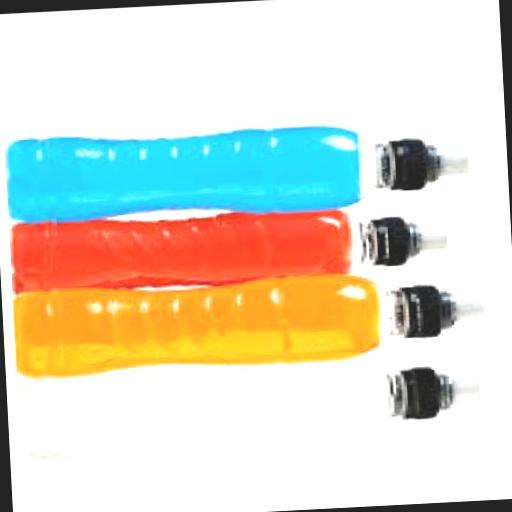plastic: (18, 264, 495, 380), (7, 117, 476, 230), (22, 344, 485, 458), (12, 200, 457, 297), (393, 282, 497, 340), (396, 364, 487, 423), (383, 138, 478, 194), (368, 213, 457, 268)
